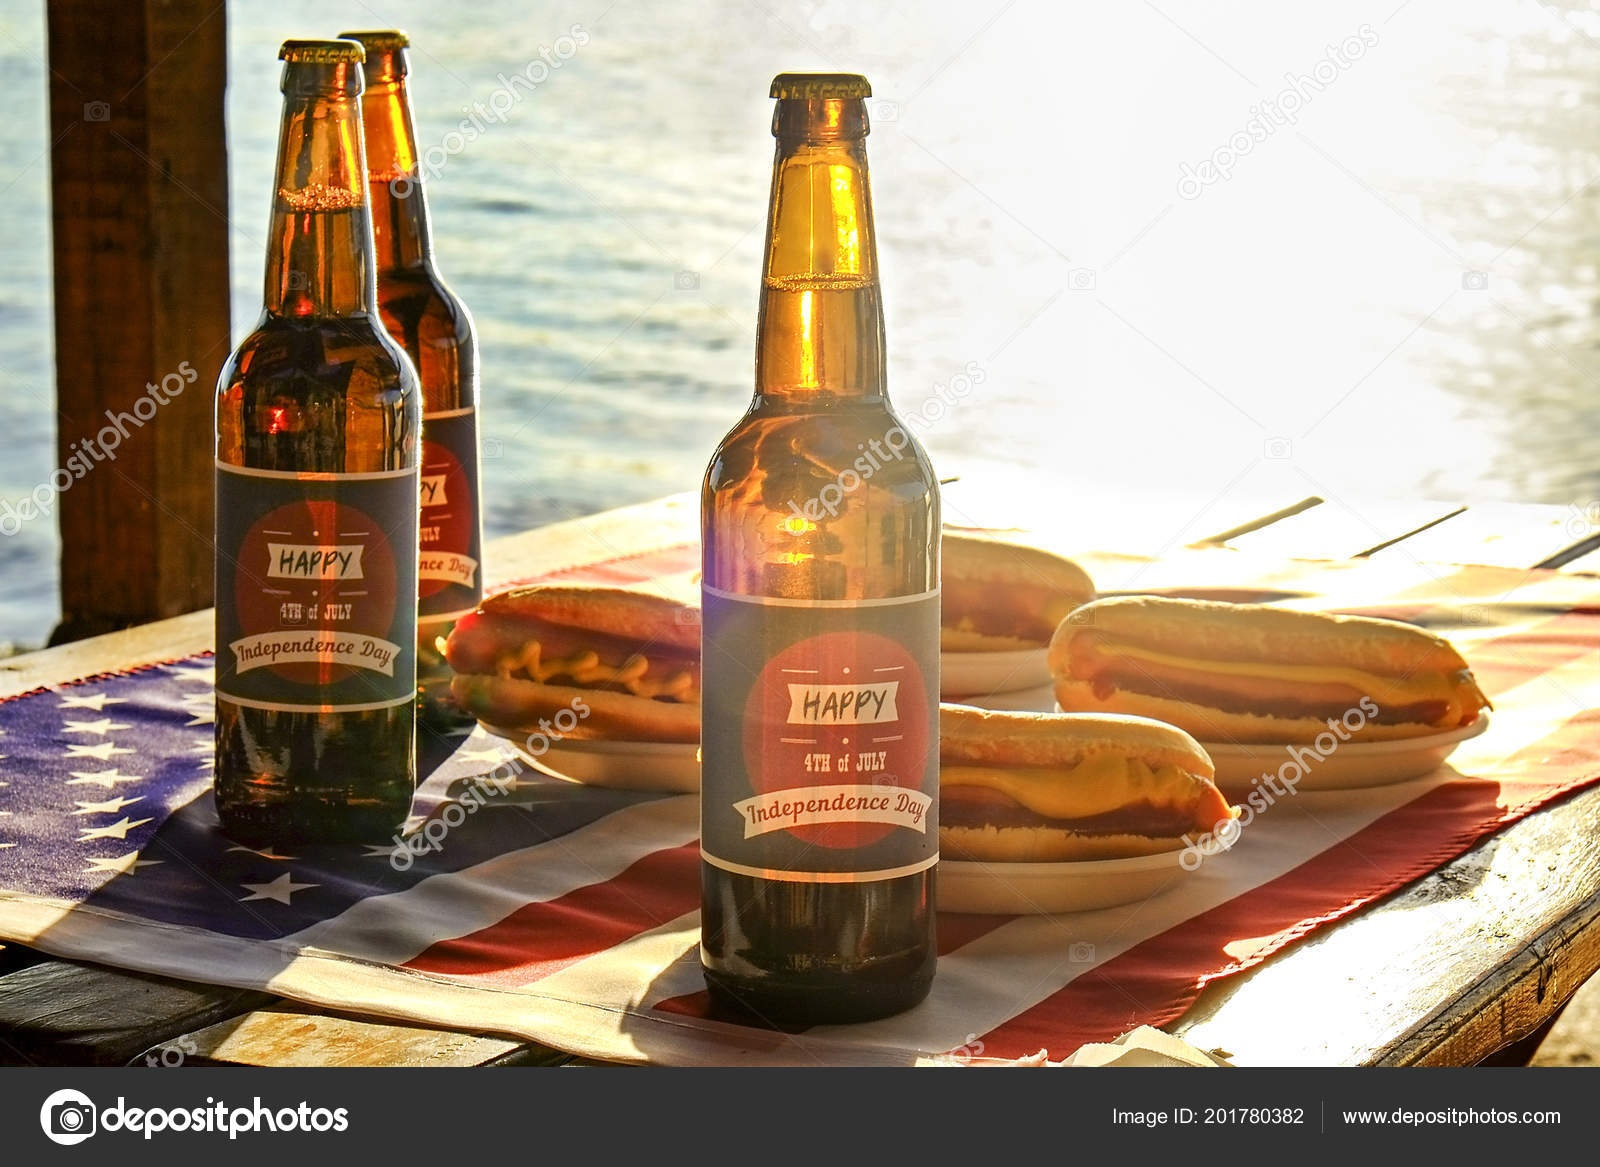beerBottle: (682, 66, 945, 1012), (212, 48, 416, 844)
